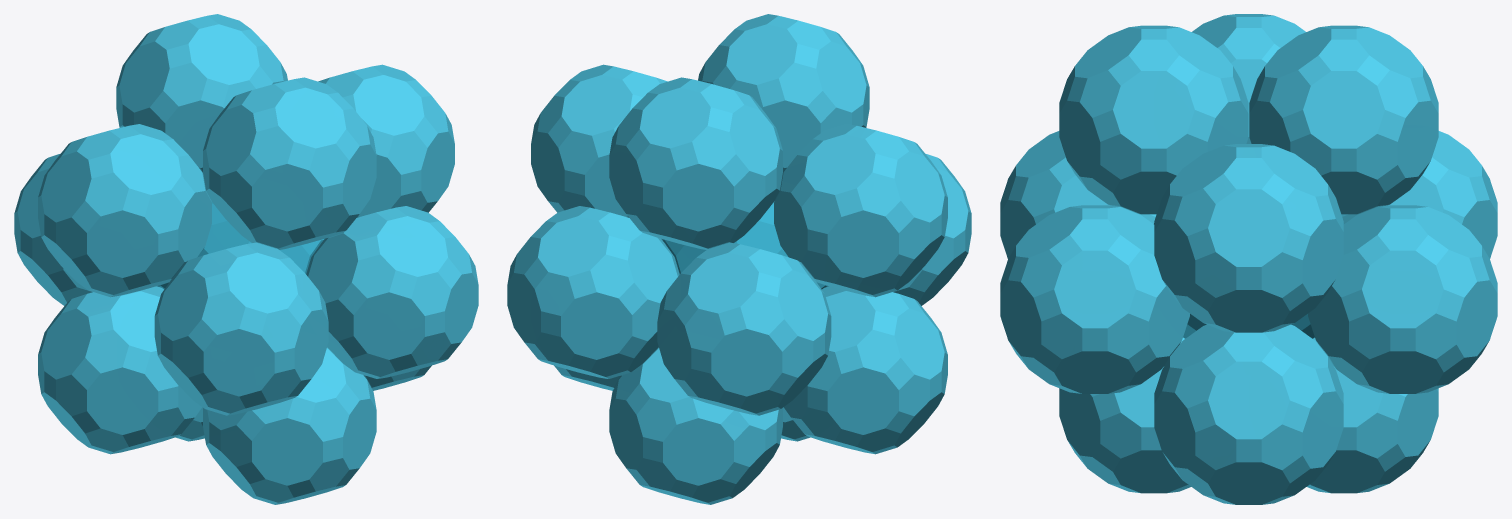
File: fractaltruncatedicosidodecahedron1.glb
The picture shows the model from 3 angles, left to right: view 1: azimuth 30°, elevation 25°; view 2: azimuth 150°, elevation 25°; view 3: azimuth 270°, elevation 25°; orthographic projection. The views are drawn at different scales.
Size of the model in its own units: 10.21 by 10.21 by 10.21.
